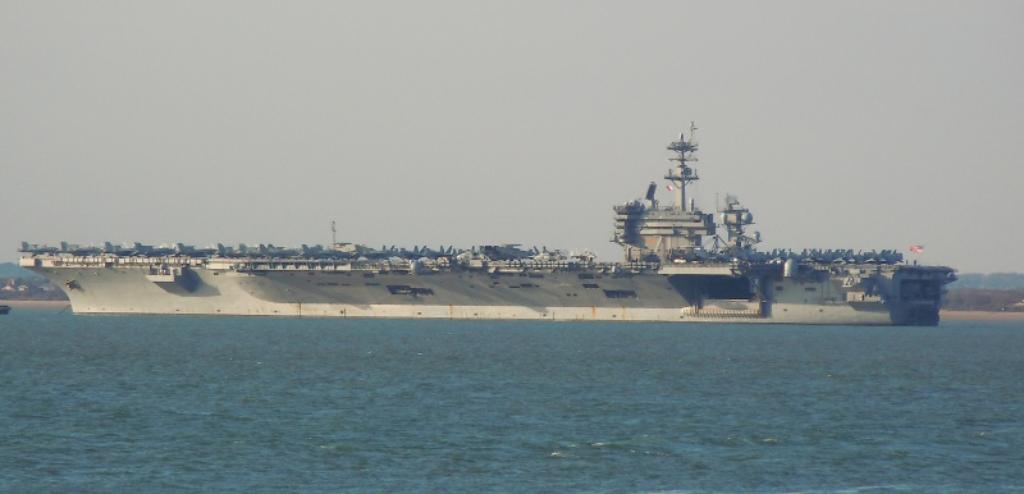Warship: (12, 123, 960, 327)
